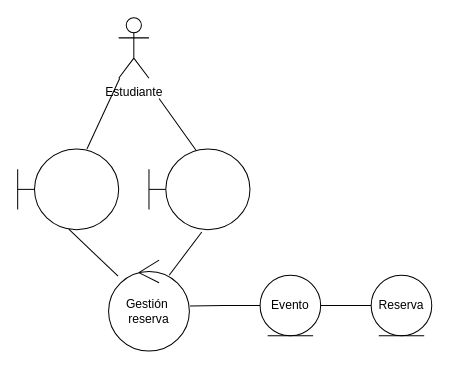
Some shapes in this 449 by 369 pixel diagram are drawn without their labels. Here are the shapes that lost their labels. From the top down, the centre of each, then its label:
At point (68, 189): "Pantalla evento".
At point (199, 189): "Reporte reserva".
